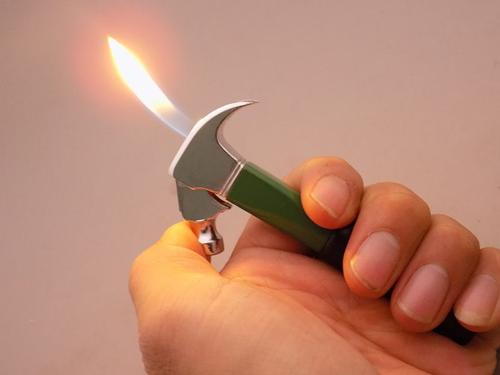fire: (100, 31, 202, 150)
